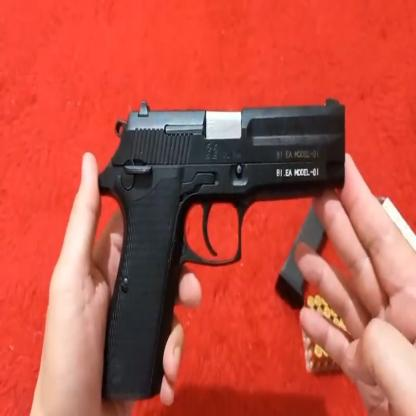handgun: (95, 85, 354, 410)
